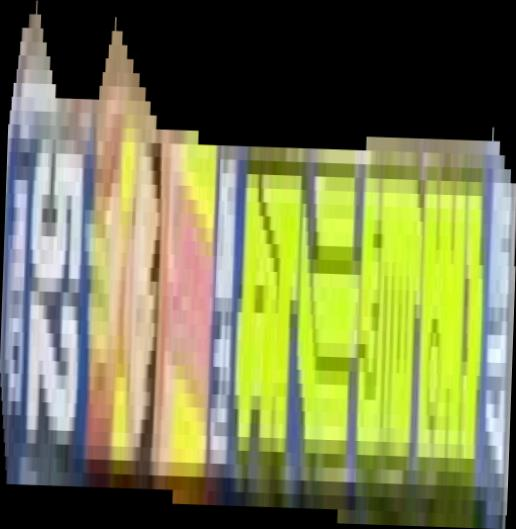flat: (1, 1, 516, 529)
